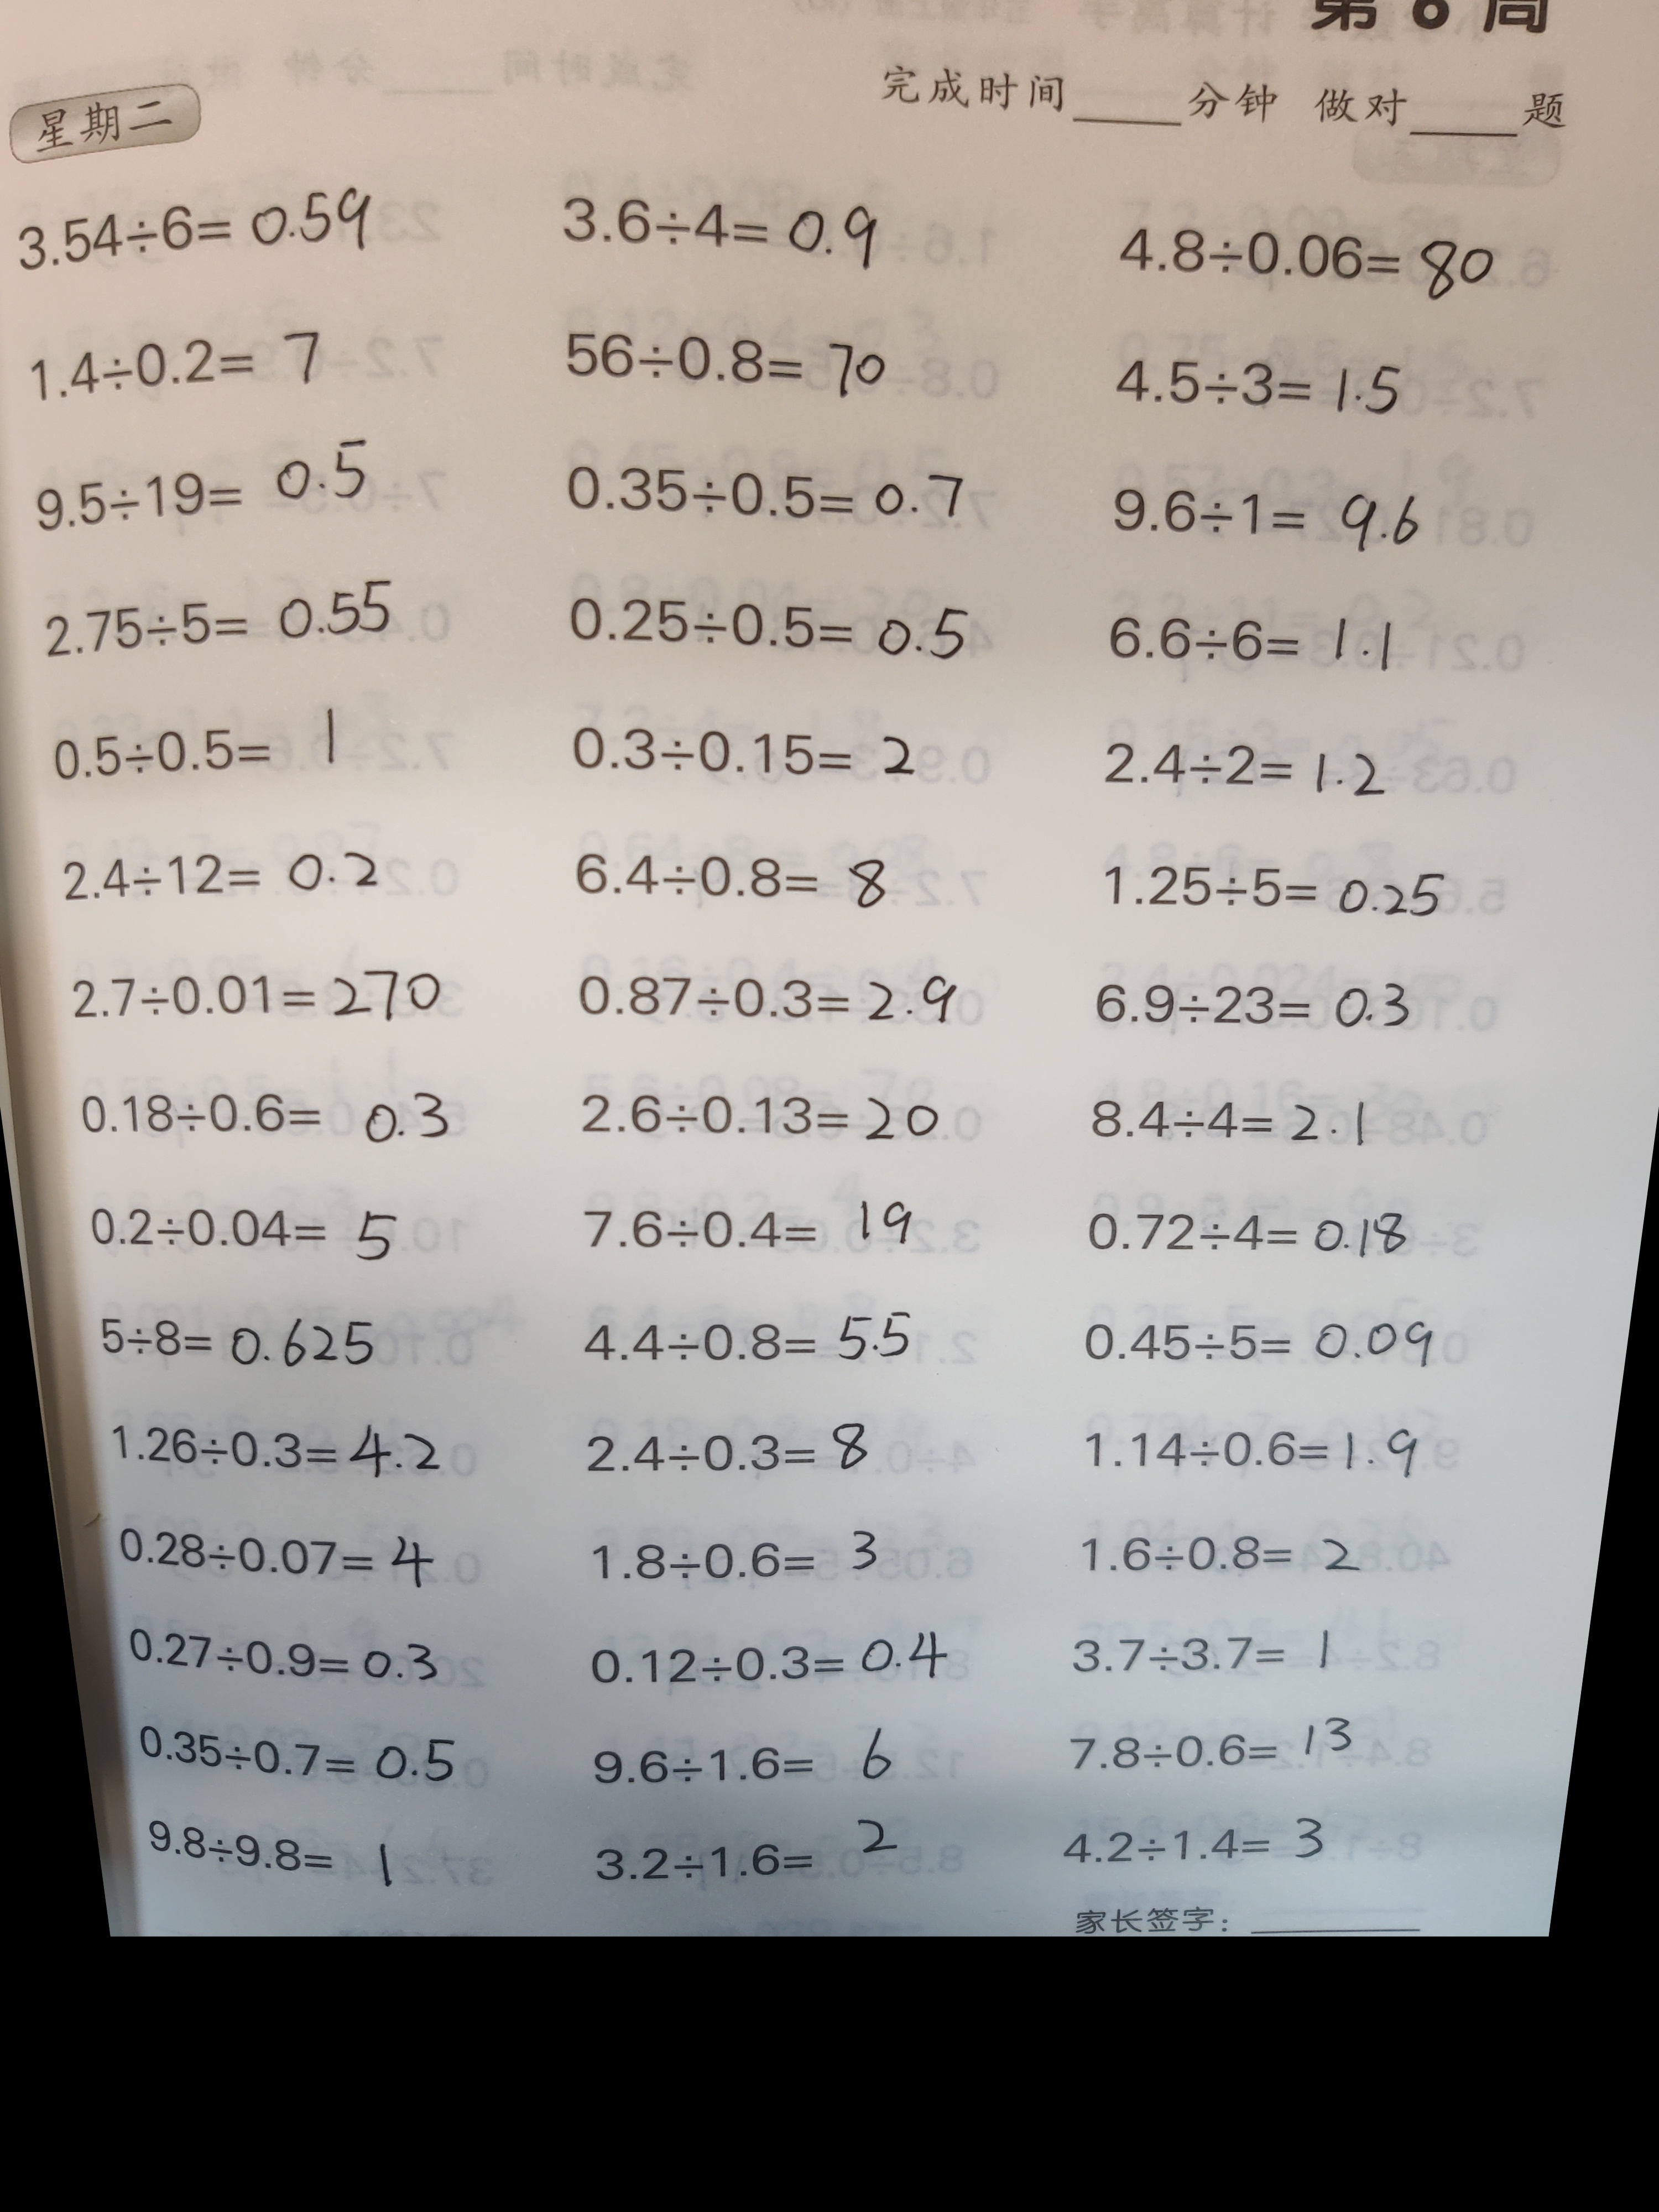equation: (3, 167, 392, 301), (1093, 186, 1499, 314), (551, 577, 995, 685), (537, 167, 875, 301), (551, 442, 986, 543), (1086, 467, 1434, 577), (30, 568, 408, 669), (1079, 843, 1471, 937), (554, 704, 929, 799), (1063, 956, 1436, 1052), (63, 1075, 471, 1162), (31, 693, 350, 799), (23, 432, 378, 526), (572, 1618, 950, 1705), (556, 834, 913, 925), (566, 960, 971, 1038), (96, 1399, 448, 1487), (127, 1710, 476, 1799), (1054, 1301, 1448, 1379), (547, 320, 899, 408), (14, 322, 350, 413), (1077, 716, 1396, 810), (563, 1078, 953, 1155), (1066, 1414, 1431, 1496), (108, 1517, 451, 1602), (1080, 336, 1413, 423), (1082, 599, 1413, 686), (568, 1815, 927, 1895), (70, 1193, 418, 1275), (559, 1299, 920, 1378), (570, 1184, 927, 1263), (110, 1615, 460, 1693), (1063, 1193, 1420, 1270), (44, 833, 396, 909), (580, 1717, 910, 1799), (58, 954, 453, 1021), (1075, 1083, 1387, 1162), (579, 1515, 890, 1594), (570, 1409, 870, 1487), (1066, 1710, 1359, 1789), (1044, 1808, 1351, 1881), (84, 1305, 392, 1374), (143, 1818, 408, 1898), (1049, 1625, 1351, 1684), (1056, 1533, 1389, 1581)
